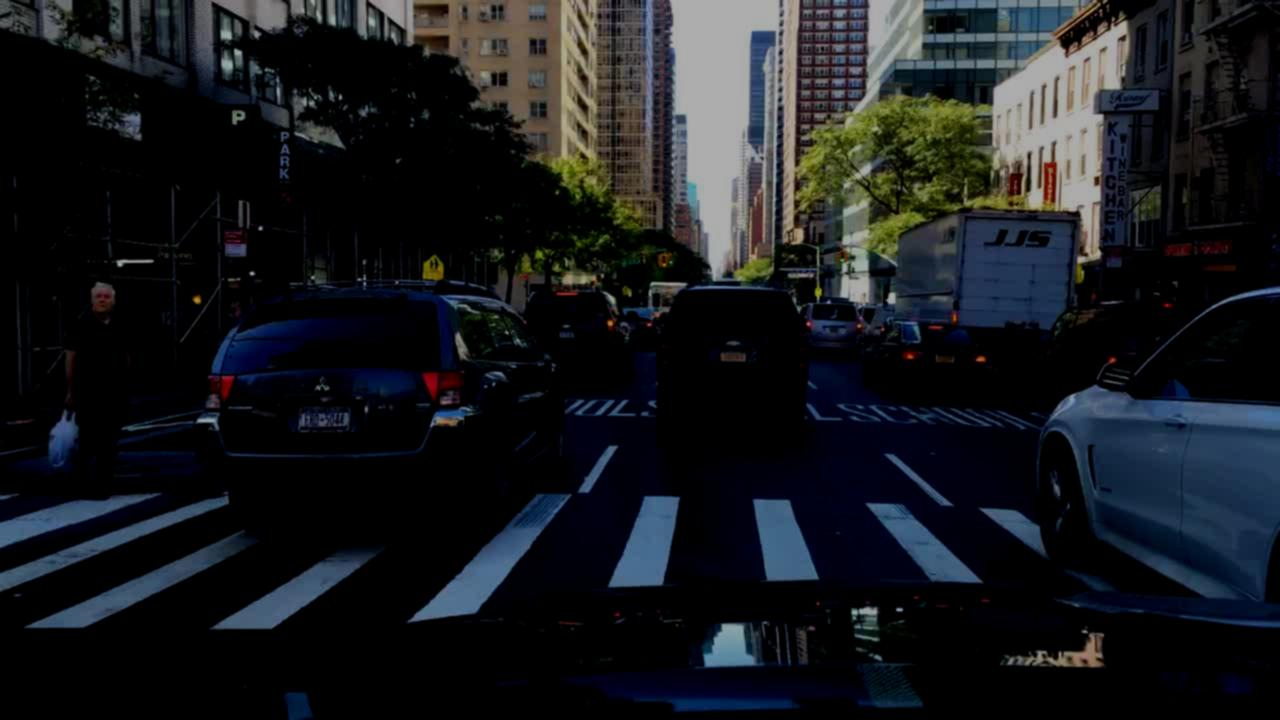Mitsubishi: (312, 372, 331, 397)
chevrolet: (722, 333, 743, 351), (558, 320, 572, 331)
